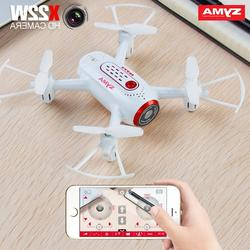drone: (1, 3, 246, 180)
